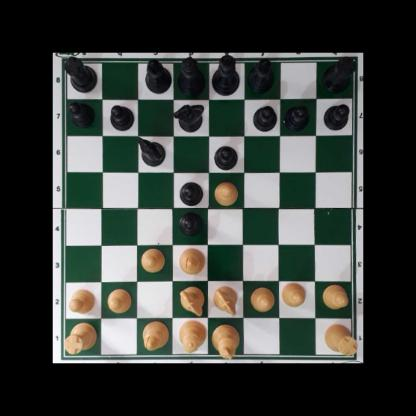black-bishop: (247, 56, 274, 92), (145, 57, 171, 92)
black-king: (211, 53, 240, 97)
black-knight: (136, 136, 165, 165), (175, 102, 203, 131)
black-pawn: (323, 103, 349, 130), (213, 143, 239, 170), (68, 101, 94, 128), (179, 180, 204, 206), (109, 103, 133, 130), (285, 104, 309, 129), (253, 105, 276, 131), (179, 210, 201, 235)
black-queen: (177, 56, 206, 94)
black-rook: (63, 55, 98, 94), (322, 57, 354, 92)
white-bishop: (142, 320, 168, 351), (179, 246, 205, 274)
white-king: (212, 321, 239, 359)
white-knight: (212, 286, 238, 315), (180, 287, 205, 316)
white-pawn: (67, 288, 96, 313), (322, 284, 349, 310), (106, 288, 132, 313), (281, 282, 306, 307), (213, 180, 239, 204), (140, 248, 165, 272), (250, 287, 274, 311)
white-queen: (179, 318, 205, 355)
white-rook: (63, 322, 97, 354), (324, 323, 358, 355)
